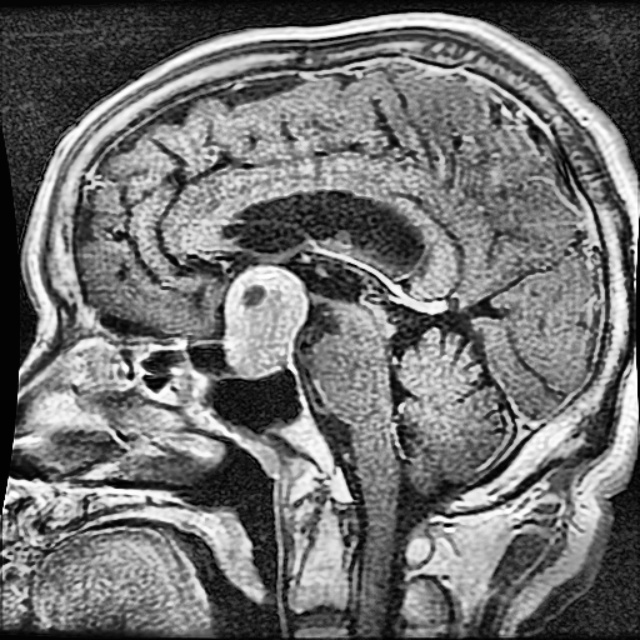Pituitary: (223, 263, 309, 378)
